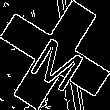M_NE: (22, 21, 88, 89)
